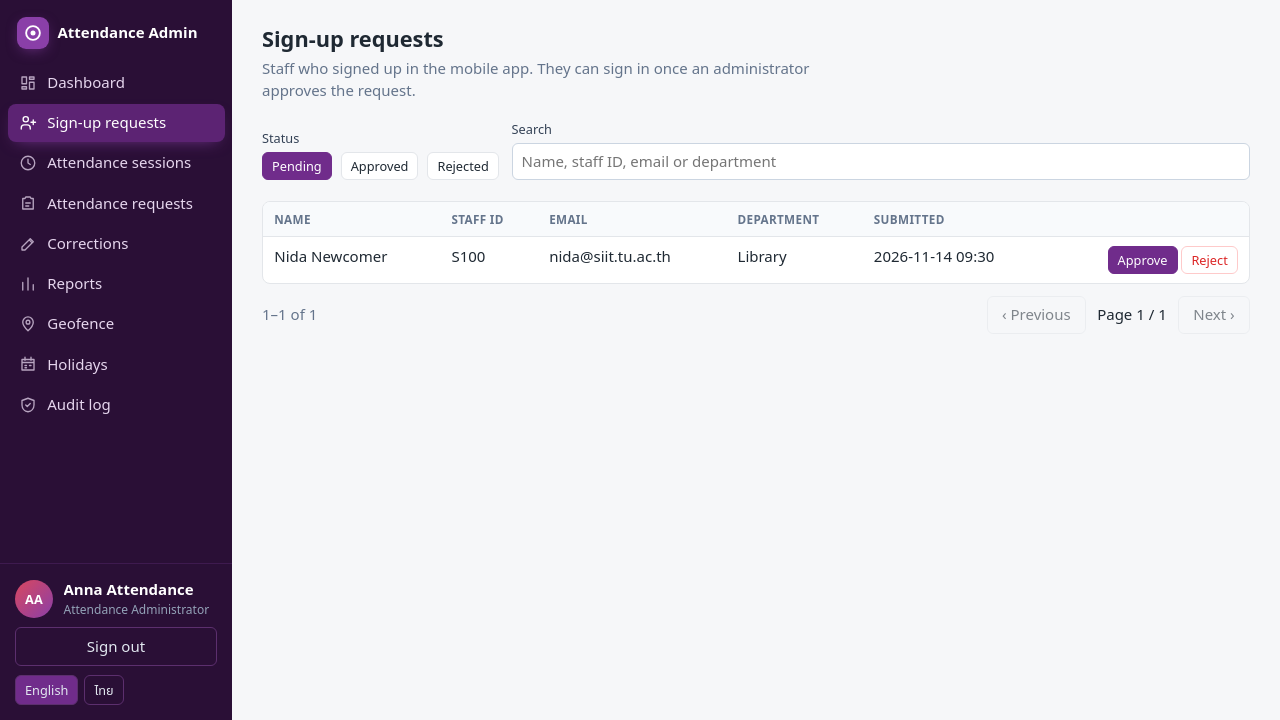
Sign-up requests › explains and refreshes when another administrator already reviewed the request (409)
Click the button with aria-label "Approve Nida Newcomer": (1142, 260) 1108,246 -> 1178,274
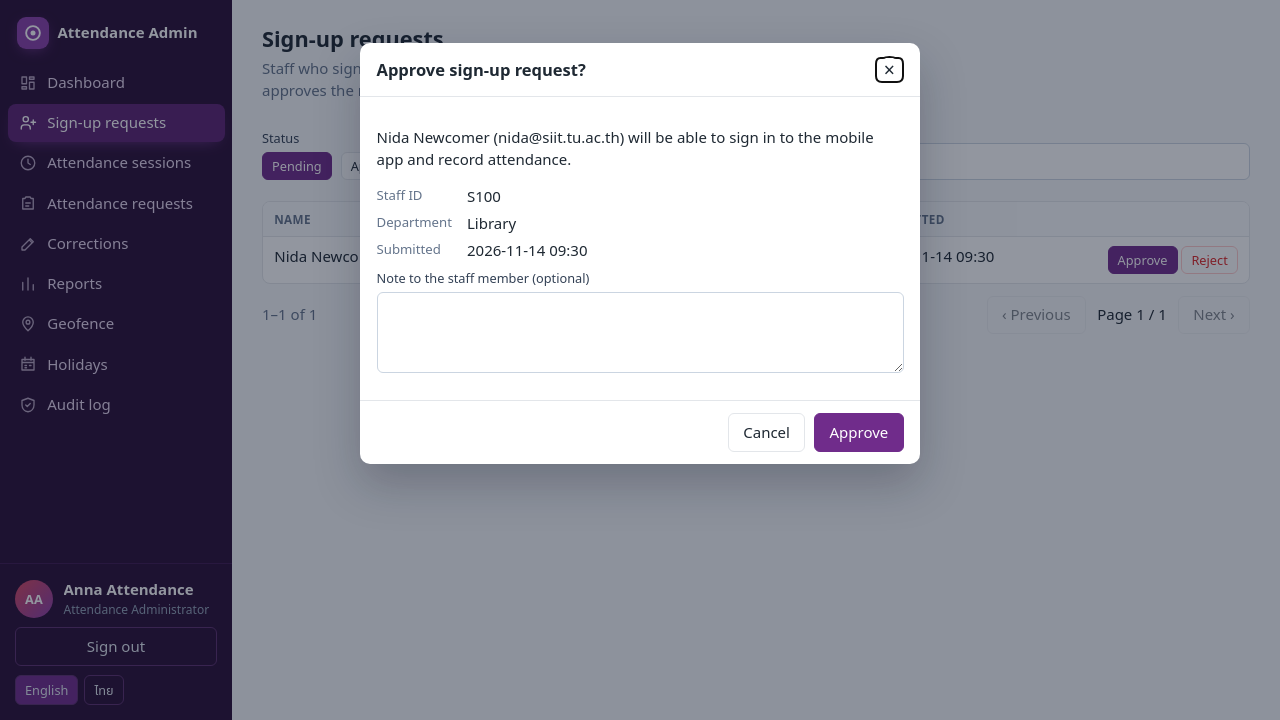
Click the button "Approve": (859, 433) 814,413 -> 904,452
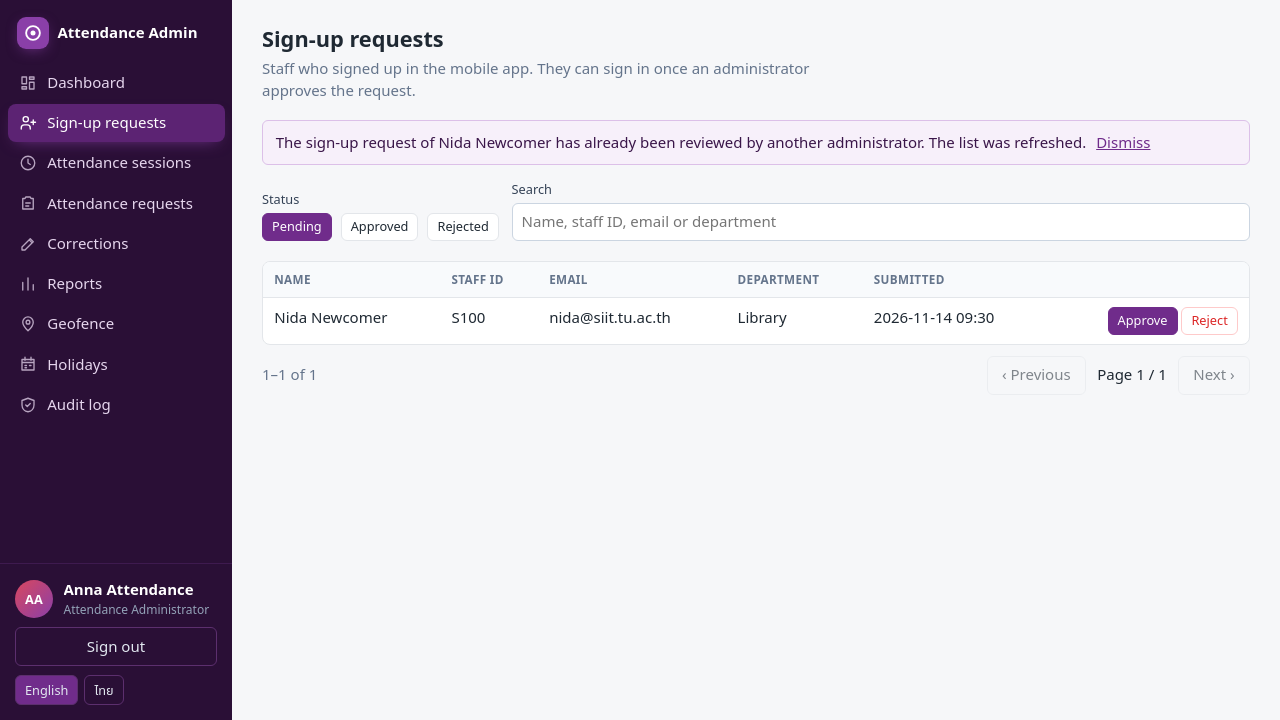
expect the text "The sign-up request of Nida Newcomer has already been reviewed by another administrator. The list was refreshed." is shown: met, box 276,132 -> 1086,152
expect the dialog is gone: met
